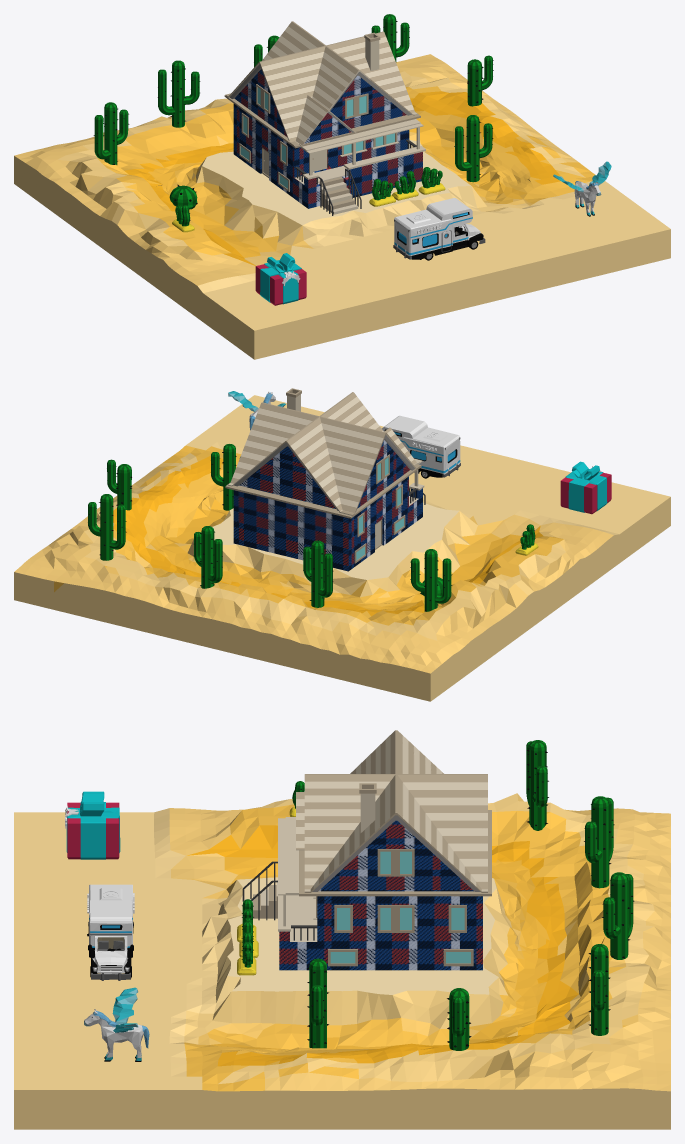
3 renders of one model, top to bottom at view 1: azimuth 30°, elevation 25°; view 2: azimuth 150°, elevation 25°; view 3: azimuth 270°, elevation 25°, orthographic. The views are drawn at different scales.
Parts seen in each view (by area): view 1: Cube.001, Cube.171, VEHICLES_CAMPER, OBJRANDOM_GIANT_PRESENT, Cylinder.037, Cylinder.044, Cylinder.045, Cylinder.038, ANIMAL_PEGASO, Cylinder.042, Cylinder.039, Cylinder.041 (+2 smaller); view 2: Cube.001, Cube.171, VEHICLES_CAMPER, OBJRANDOM_GIANT_PRESENT, Cylinder.042, Cylinder.045, Cylinder.044, Cylinder.043, Cylinder.037, Cylinder.038, ANIMAL_PEGASO; view 3: Cube.001, Cube.171, VEHICLES_CAMPER, OBJRANDOM_GIANT_PRESENT, Cylinder.043, Cylinder.044, ANIMAL_PEGASO, Cylinder.045, Cylinder.042, Cylinder.037, Cylinder.038, Cylinder.041.
Boxes of the visible parts, box(x1,y1,x2,y2) form: Cube.001: box(14, 54, 670, 359); Cube.171: box(224, 21, 425, 215); VEHICLES_CAMPER: box(393, 198, 485, 260); OBJRANDOM_GIANT_PRESENT: box(255, 253, 306, 305); Cylinder.037: box(454, 115, 493, 182); Cylinder.044: box(157, 60, 200, 127); Cylinder.045: box(93, 102, 129, 164); Cylinder.038: box(467, 55, 493, 106); ANIMAL_PEGASO: box(553, 161, 611, 216); Cylinder.042: box(371, 14, 409, 62); Cylinder.039: box(369, 179, 395, 206); Cylinder.041: box(418, 167, 445, 194); Cube.001: box(14, 395, 670, 701); Cube.171: box(225, 388, 425, 571); VEHICLES_CAMPER: box(382, 415, 460, 478); OBJRANDOM_GIANT_PRESENT: box(560, 461, 611, 514); Cylinder.042: box(88, 494, 126, 560); Cylinder.045: box(410, 549, 452, 611); Cylinder.044: box(303, 540, 333, 607); Cylinder.043: box(193, 526, 222, 588); Cylinder.037: box(211, 444, 240, 510); Cylinder.038: box(107, 459, 131, 510); ANIMAL_PEGASO: box(228, 391, 285, 430); Cube.001: box(14, 793, 670, 1129); Cube.171: box(242, 730, 491, 970); VEHICLES_CAMPER: box(87, 884, 134, 980); OBJRANDOM_GIANT_PRESENT: box(65, 791, 120, 859); Cylinder.043: box(602, 872, 634, 959); Cylinder.044: box(584, 796, 614, 888); ANIMAL_PEGASO: box(84, 987, 149, 1061); Cylinder.045: box(526, 740, 548, 830); Cylinder.042: box(588, 944, 610, 1035); Cylinder.037: box(307, 958, 328, 1048); Cylinder.038: box(447, 988, 471, 1050); Cylinder.041: box(237, 932, 256, 975).
Bounding box in the file's own units: 4002 × 1600 × 4001.
31 materials, 3 textured.
